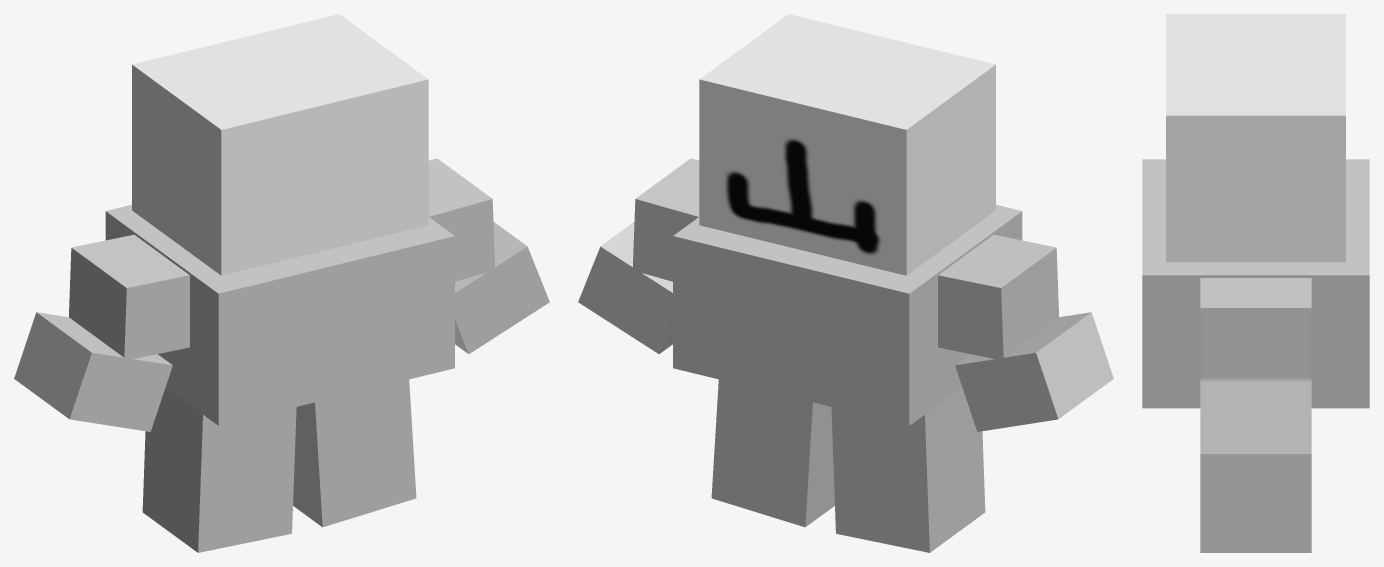
Rendered from yama.gltf.
3 renders of one model, left to right at view 1: azimuth 30°, elevation 25°; view 2: azimuth 150°, elevation 25°; view 3: azimuth 270°, elevation 25°, orthographic.
Visible parts, largest first — view 1: 立方体, 立方体.001, 立方体.004, 立方体.002, 立方体.005, 立方体.006, 立方体.003, 立方体.007; view 2: 立方体, 立方体.001, 立方体.004, 立方体.002, 立方体.005, 立方体.006, 立方体.003, 立方体.007; view 3: 立方体, 立方体.001, 立方体.007, 立方体.002, 立方体.003.
Part boxes in pixels (x1,y1,x2,y2): 立方体: [132, 14, 428, 275]; 立方体.001: [105, 204, 454, 425]; 立方体.004: [142, 387, 296, 552]; 立方体.002: [293, 379, 416, 527]; 立方体.005: [69, 234, 189, 360]; 立方体.006: [14, 312, 172, 431]; 立方体.003: [455, 221, 549, 353]; 立方体.007: [428, 158, 495, 281]; 立方体: [699, 14, 995, 275]; 立方体.001: [673, 204, 1022, 425]; 立方体.004: [831, 387, 985, 552]; 立方体.002: [711, 379, 834, 527]; 立方体.005: [938, 234, 1058, 360]; 立方体.006: [955, 312, 1113, 431]; 立方体.003: [578, 221, 672, 353]; 立方体.007: [633, 158, 699, 281]; 立方体: [1166, 14, 1345, 262]; 立方体.001: [1142, 159, 1369, 408]; 立方体.007: [1200, 278, 1311, 378]; 立方体.002: [1200, 454, 1311, 552]; 立方体.003: [1200, 378, 1311, 453].
Bounding box in the file's own units: 3.15 × 2.75 × 1.28.
Materials: 2 (1 with a texture image).
